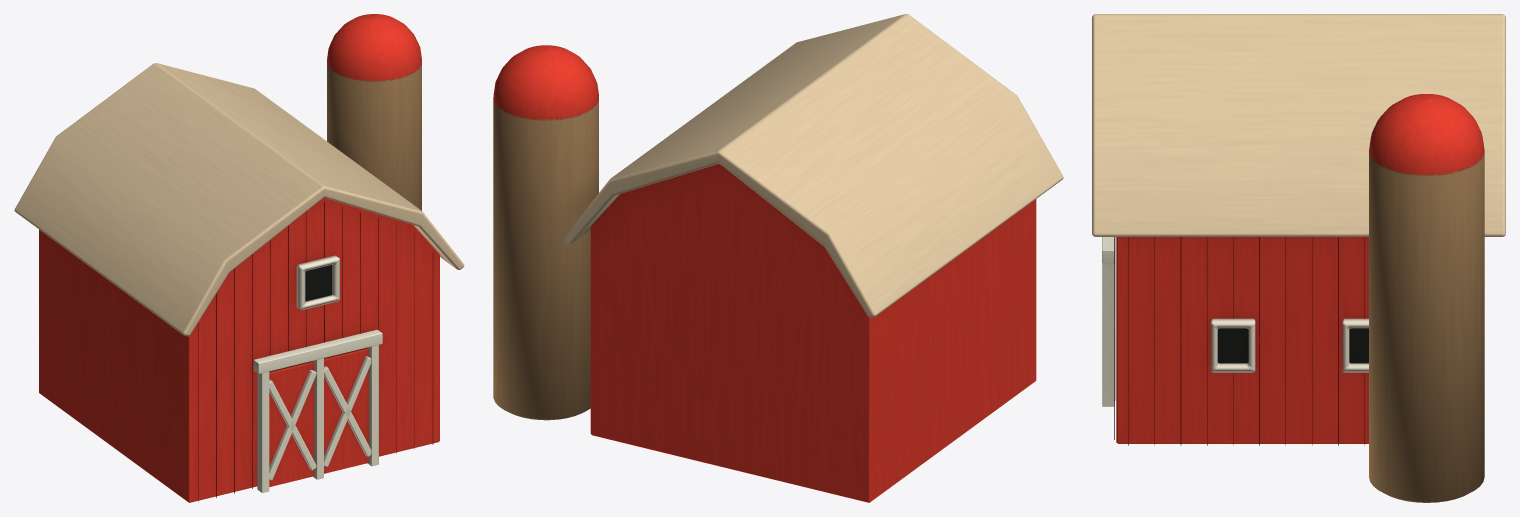
The model's file is barn.fbx.
The picture shows the model from 3 angles, left to right: view 1: azimuth 30°, elevation 25°; view 2: azimuth 150°, elevation 25°; view 3: azimuth 270°, elevation 25°; orthographic projection. The views are drawn at different scales.
Visible parts, largest first — view 1: barn; view 2: barn; view 3: barn.
Boxes of the visible parts, box(x1,y1,x2,y2) form: barn: box(14, 14, 464, 502); barn: box(493, 14, 1063, 502); barn: box(1092, 14, 1505, 502).
Size of the model in its own units: 4400 by 3605 by 3517.
Materials: 1 (1 with a texture image).
